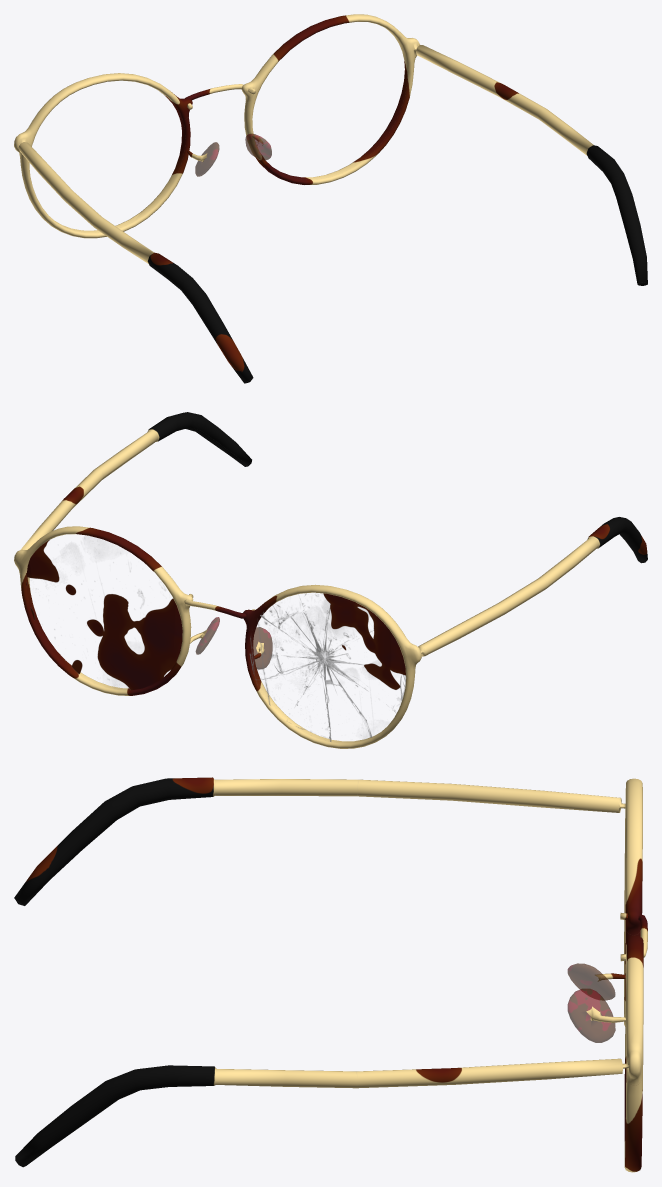
Rendered from bloodyGlasses.gltf.
3 renders of one model, top to bottom at view 1: azimuth 30°, elevation 25°; view 2: azimuth 150°, elevation 25°; view 3: azimuth 270°, elevation 25°, orthographic. The views are drawn at different scales.
Visible parts, largest first — view 1: bloodyGlasses; view 2: bloodyGlasses; view 3: bloodyGlasses.
Part boxes in pixels (x1=…): bloodyGlasses: x1=14, y1=14, x2=647, y2=383; bloodyGlasses: x1=14, y1=412, x2=647, y2=748; bloodyGlasses: x1=14, y1=777, x2=647, y2=1172.
Bounding box in the file's own units: 1.55 × 0.5226 × 1.39.
Materials: 1 (1 with a texture image).
